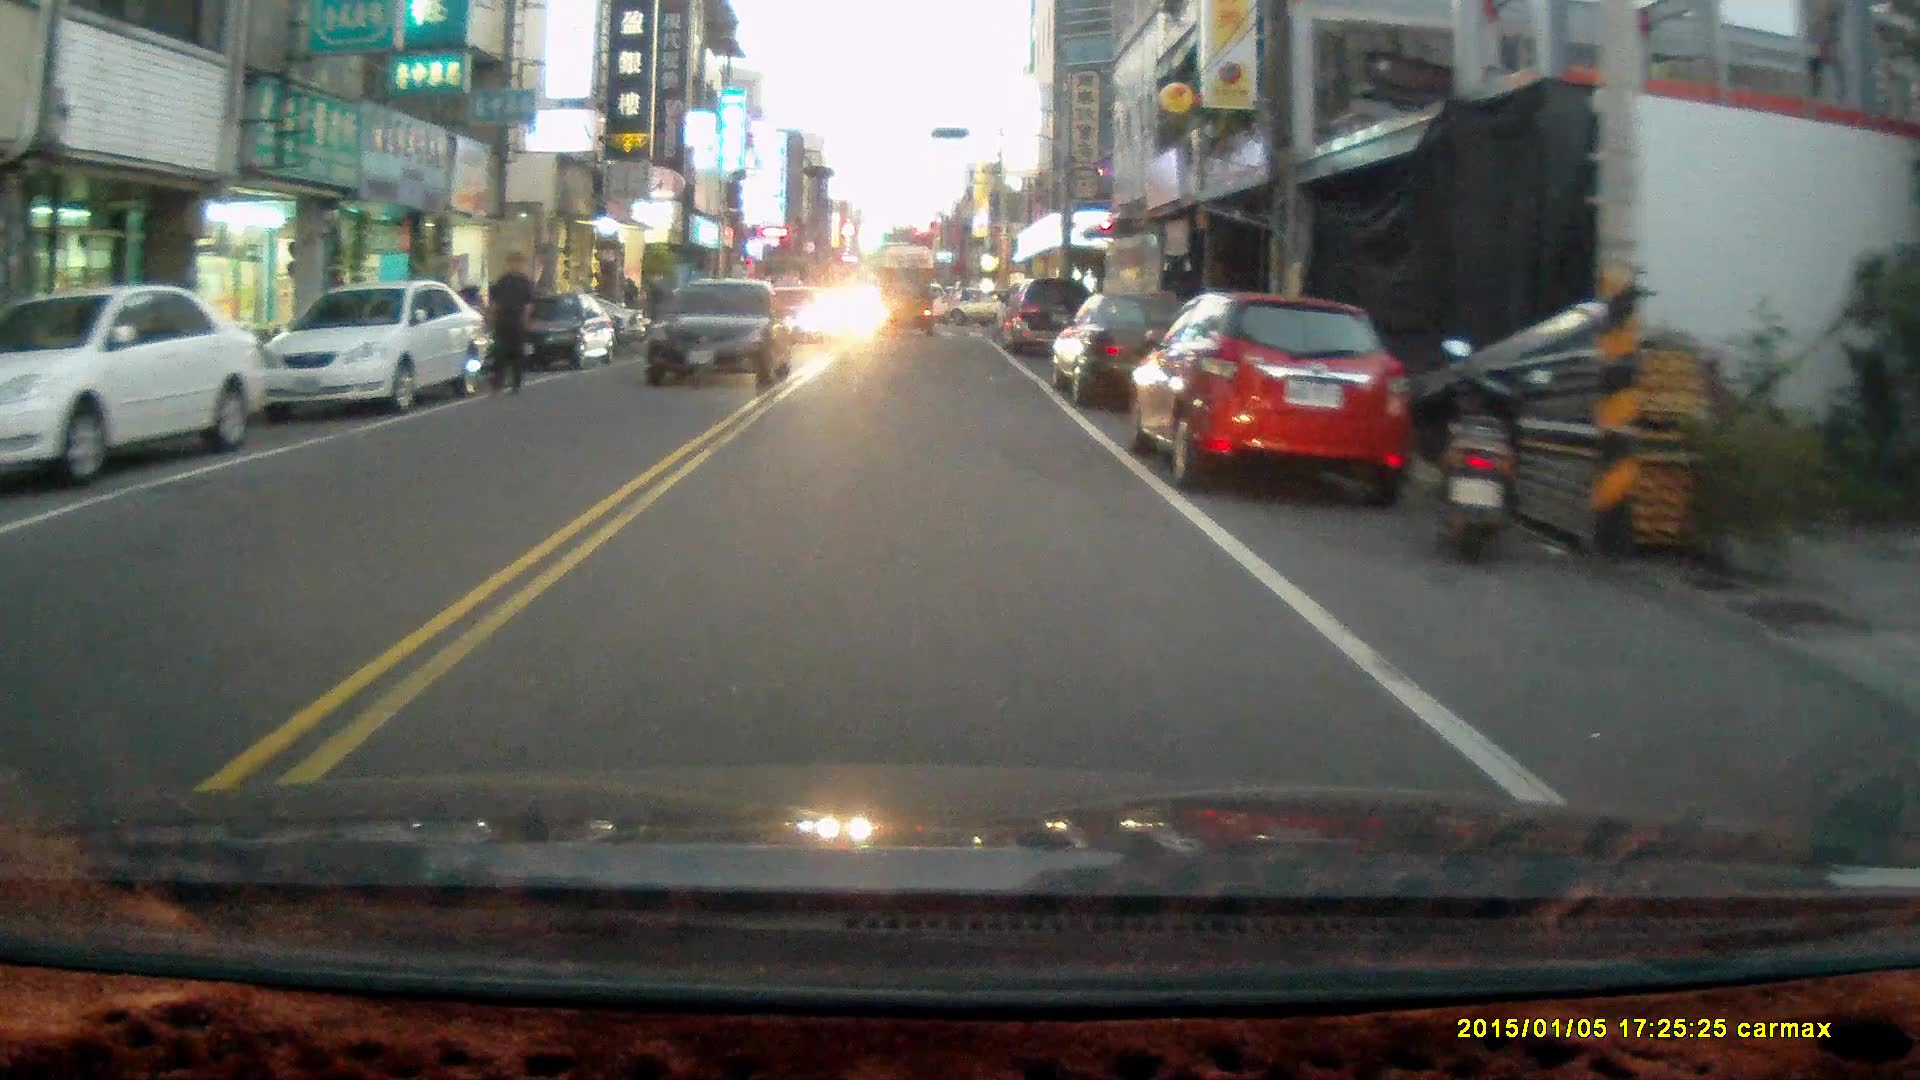pedestrian: (481, 253, 536, 399), (641, 272, 671, 351)
vehicle: (1134, 298, 1416, 505), (2, 286, 275, 490), (263, 286, 493, 422), (1048, 293, 1219, 414), (641, 277, 797, 394), (502, 291, 615, 378), (993, 276, 1102, 363), (873, 265, 937, 334)
